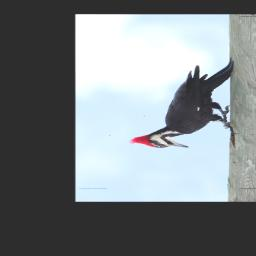Woodpecker: (129, 58, 238, 149)
